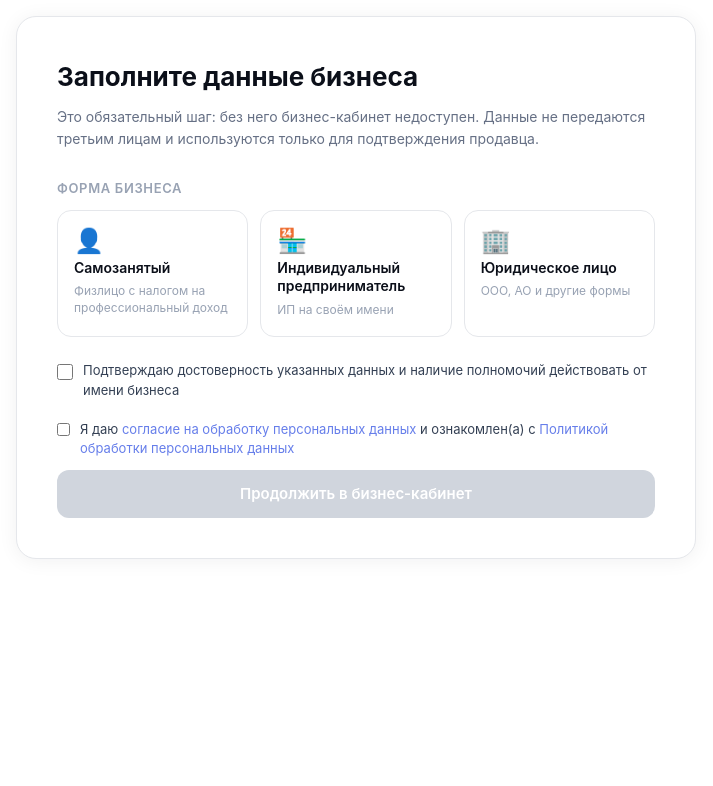
BusinessOnboardingPage › individual_entrepreneur shows OGRNIP and registration address
The image size is (713, 786).
Click the radio button labelled "🏪 Индивидуальный предприниматель ИП на своём имени". click: (356, 274)
box: [260,210,452,338]
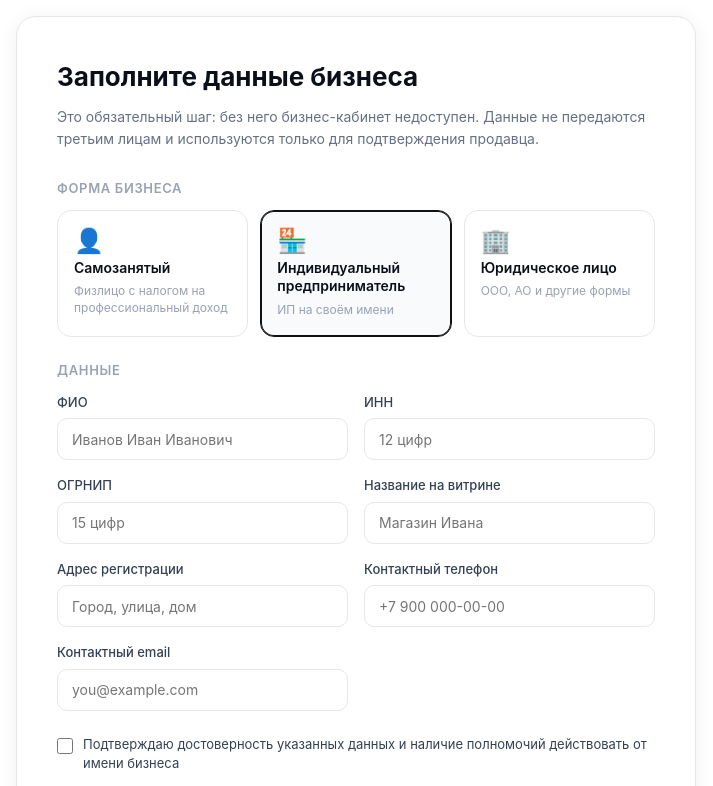
Now the field labelled "ОГРНИП" is shown, box [57,502,348,544]
Now the field labelled "Адрес регистрации" is shown, box [57,586,348,628]
